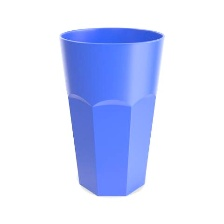glass: (52, 21, 169, 202)
